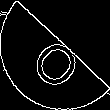O_NE: (23, 22, 87, 88)
